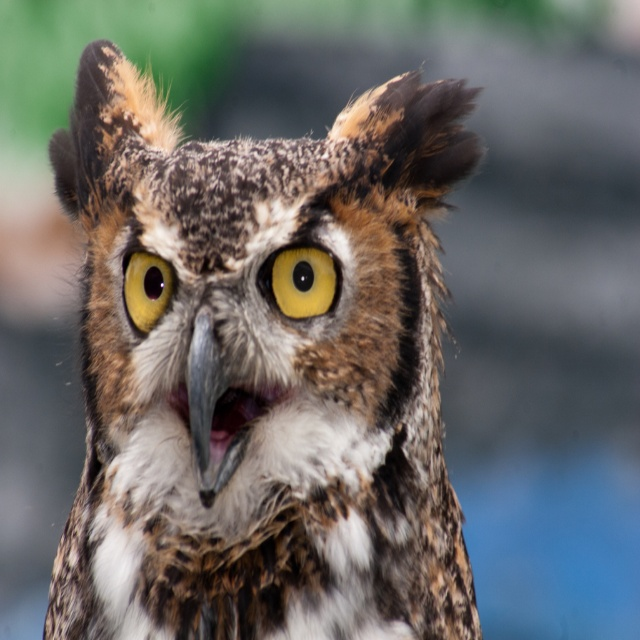Owl: (42, 39, 490, 640)
